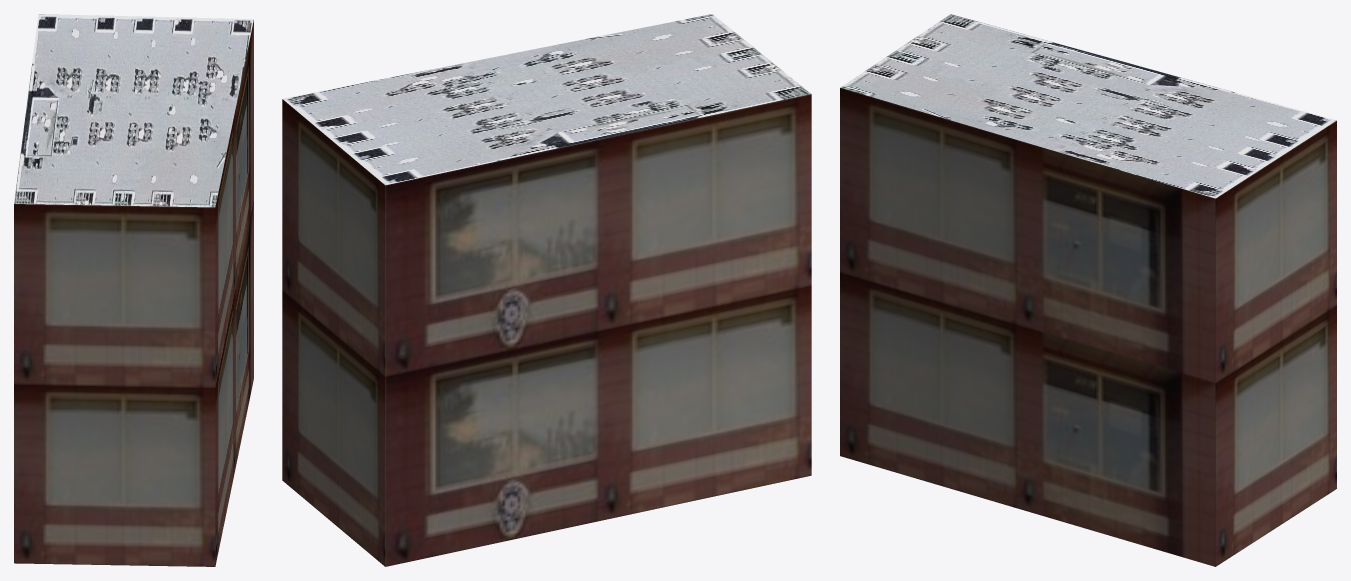
The model's file is ResTex__5224.fbx.
3 views of the same model, side by side, from view 1: azimuth 30°, elevation 25°; view 2: azimuth 150°, elevation 25°; view 3: azimuth 270°, elevation 25° (orthographic). The views are drawn at different scales.
Parts seen in each view (by area): view 1: CityEngineMaterial_13_m, CityEngineMaterial_8_m; view 2: CityEngineMaterial_13_m, CityEngineMaterial_8_m; view 3: CityEngineMaterial_13_m, CityEngineMaterial_8_m.
Part boxes in pixels (x1,y1,x2,y2): CityEngineMaterial_13_m: (14, 20, 253, 566); CityEngineMaterial_8_m: (14, 14, 253, 207); CityEngineMaterial_13_m: (282, 94, 811, 566); CityEngineMaterial_8_m: (283, 14, 810, 185); CityEngineMaterial_13_m: (840, 88, 1336, 566); CityEngineMaterial_8_m: (840, 14, 1336, 198).
Size of the model in its own units: 6.45 by 6 by 7.33.
2 materials, 2 textured.
